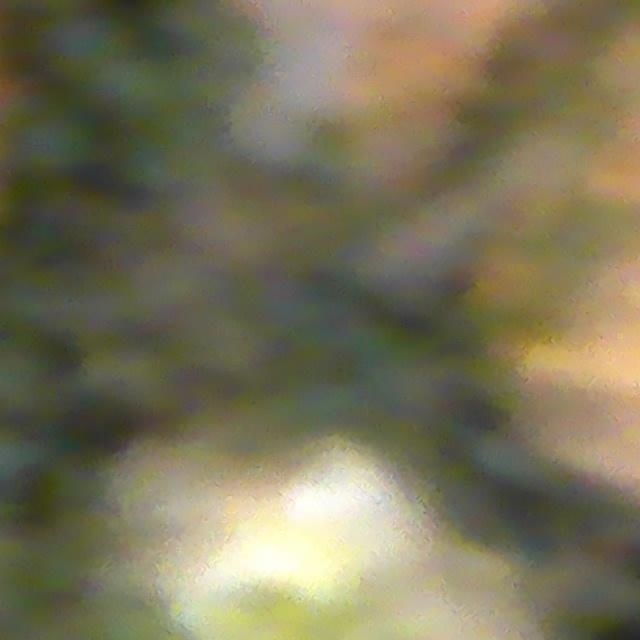SeaGrape: (9, 103, 95, 180)
